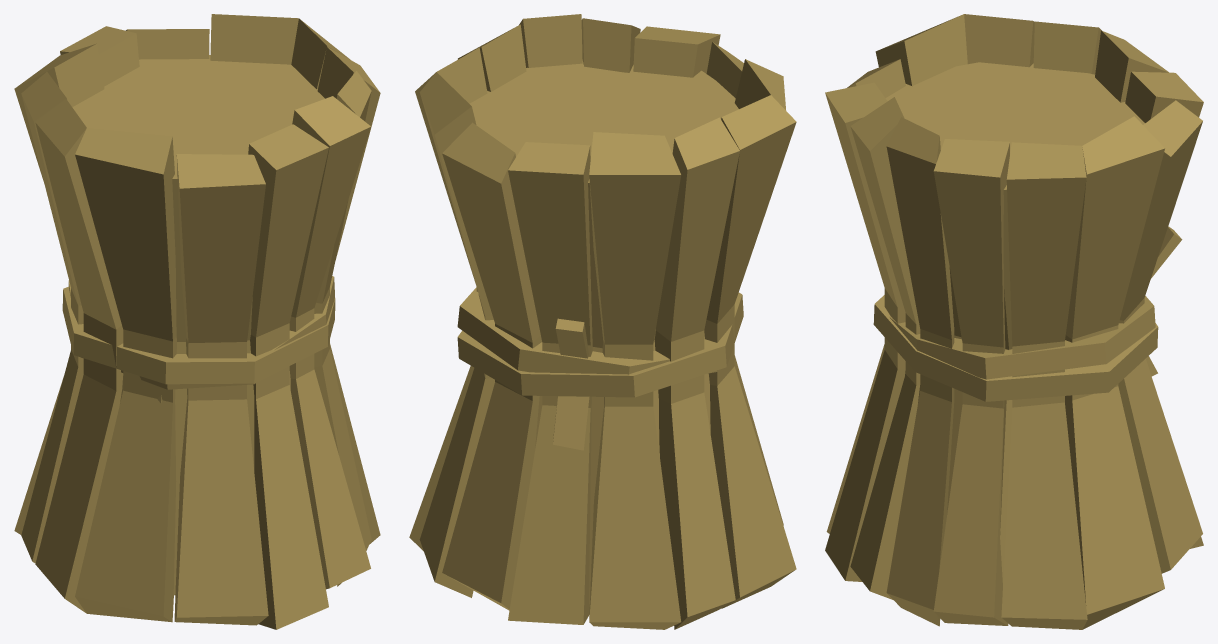
Rendered from hay.glb.
3 views of the same model, side by side, from view 1: azimuth 30°, elevation 25°; view 2: azimuth 150°, elevation 25°; view 3: azimuth 270°, elevation 25° (orthographic).
Parts seen in each view (by area): view 1: Hay; view 2: Hay; view 3: Hay.
Boxes of the visible parts, x1,y1,x2,y2 form: Hay: (14, 14, 380, 629); Hay: (409, 14, 796, 629); Hay: (825, 14, 1203, 629).
Bounding box in the file's own units: 0.61 × 0.9 × 0.6296.
